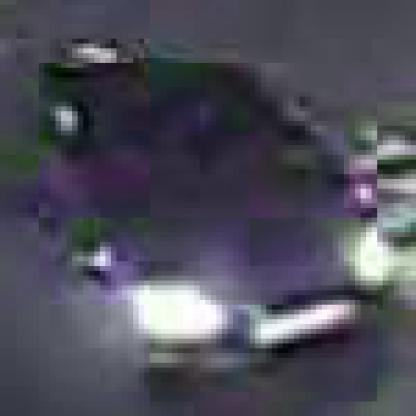car: (34, 64, 378, 407)
